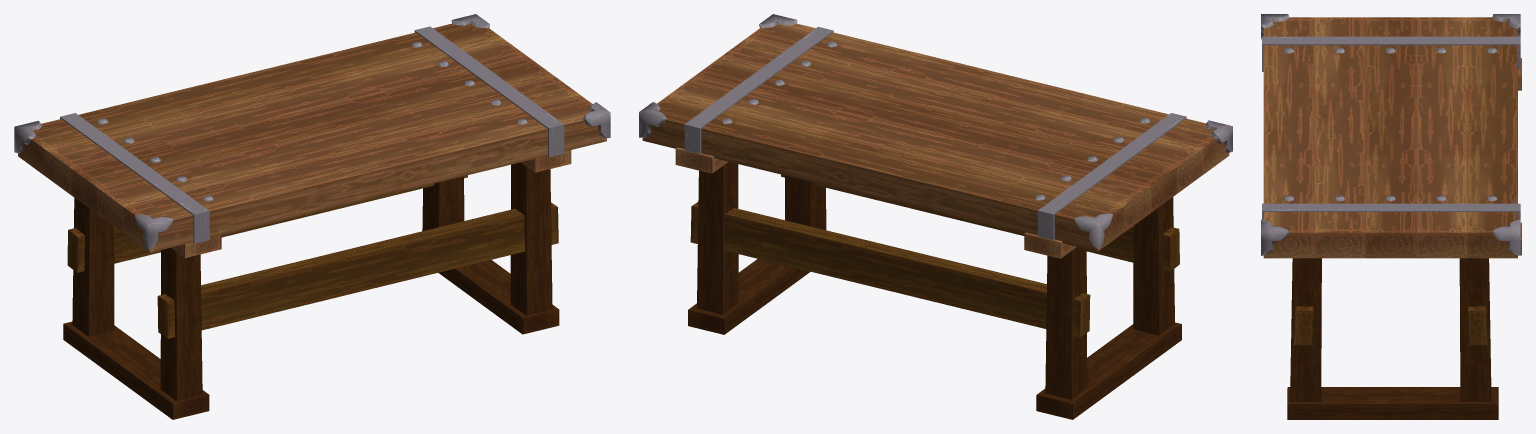
File: Workbench.glb
3 views of the same model, side by side, from view 1: azimuth 30°, elevation 25°; view 2: azimuth 150°, elevation 25°; view 3: azimuth 270°, elevation 25° (orthographic). The views are drawn at different scales.
Visible parts, largest first — view 1: Workbench; view 2: Workbench; view 3: Workbench.
Part boxes in pixels (<box>): Workbench: <box>14,14,610,419</box>; Workbench: <box>639,14,1232,419</box>; Workbench: <box>1261,14,1521,419</box>.
Size of the model in its own units: 2.02 by 0.8945 by 1.02.
Materials: 2 (2 with a texture image).
